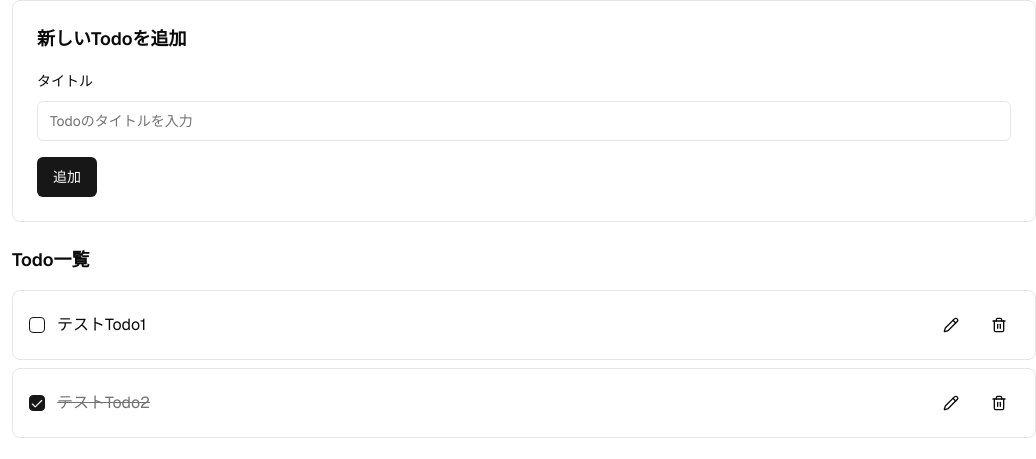
it: TodoList › 編集モードに切り替えできる
Click the button with test id "edit-button": x=951, y=325 [931,307,971,343]
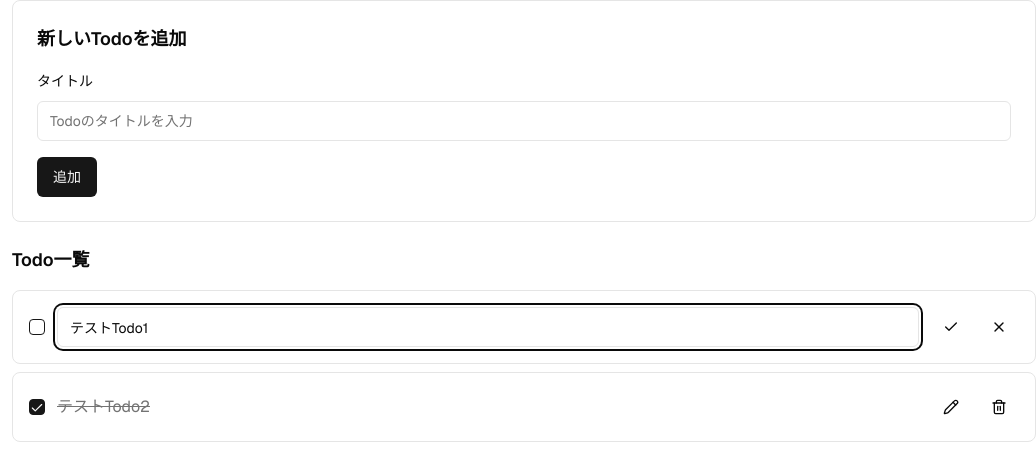
Expected: the field showing "テストTodo1" is shown, [57,307,919,347]
